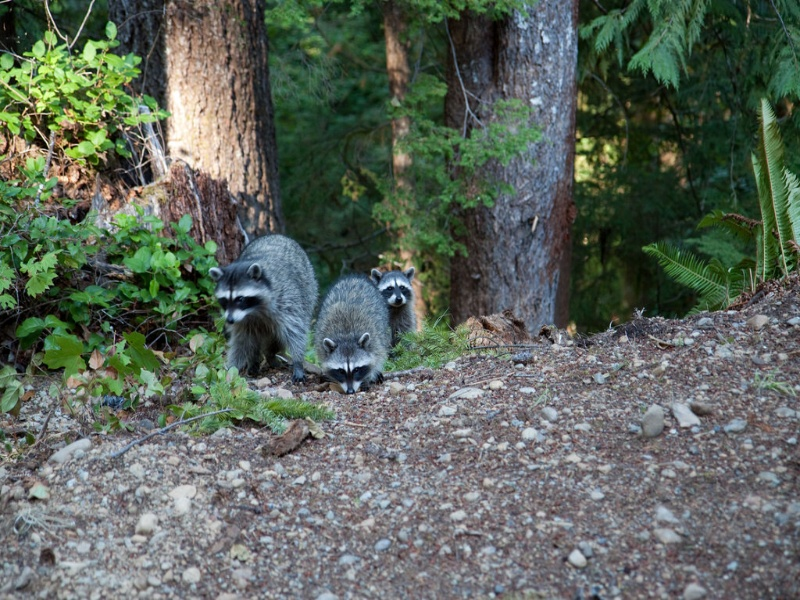raccoon: (210, 234, 318, 385), (314, 277, 398, 398), (369, 265, 423, 351)
